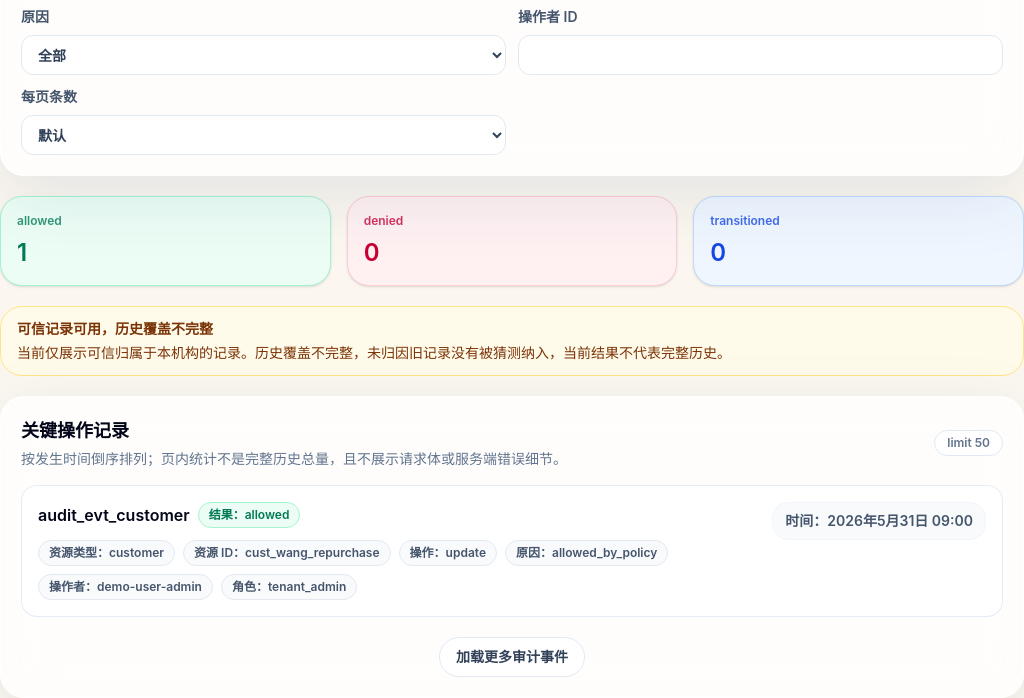
Test case: 机构业务页面壳 › 审计日志 append 失败时清除旧记录、分页和统计
(page scrolled)
Check: the text "audit_evt_customer" is shown, box [38,503,190,527]
Click the button "加载更多审计事件". click: (512, 657)
box: [439,637,585,677]
(page scrolled)
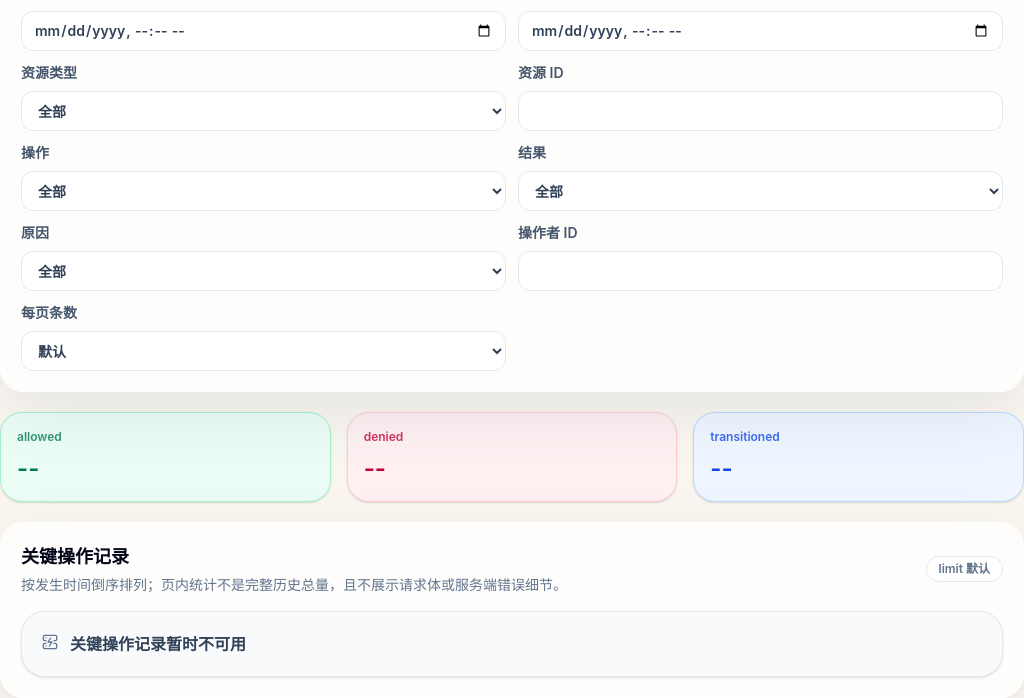
Check: the text "关键操作记录暂时不可用" is shown, box [70,632,246,656]
Check: the text "audit_evt_customer" is gone
Check: the button "加载更多审计事件" is gone
